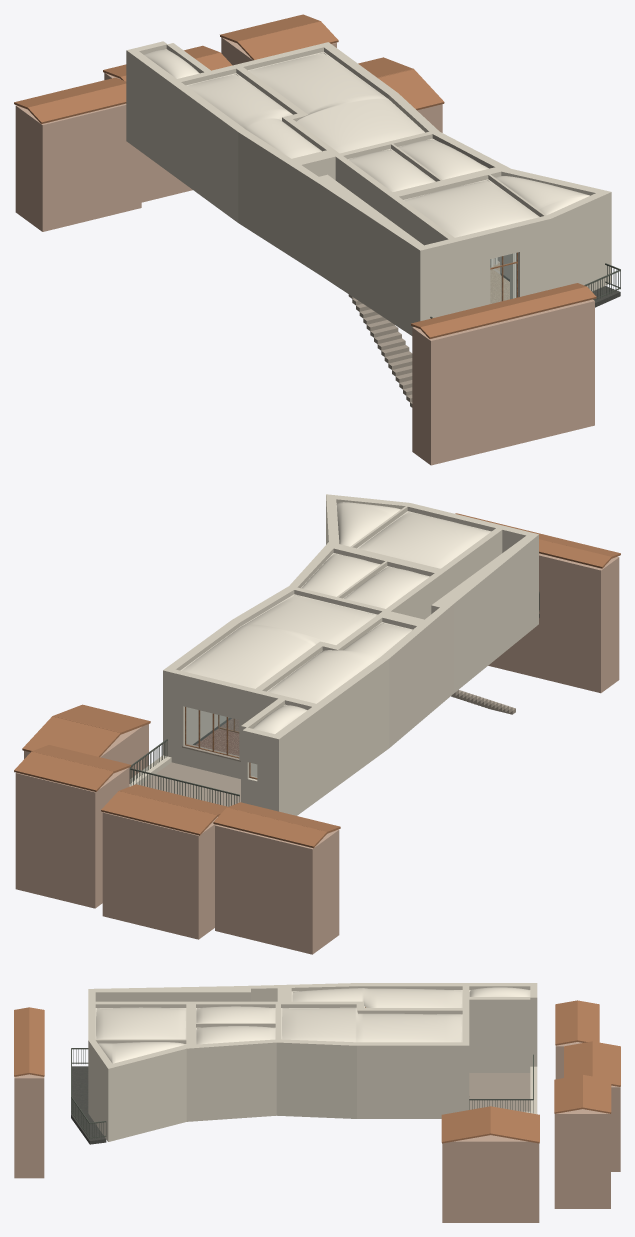
3 renders of one model, top to bottom at view 1: azimuth 30°, elevation 25°; view 2: azimuth 150°, elevation 25°; view 3: azimuth 270°, elevation 25°, orthographic. The views are drawn at different scales.
Visible parts, largest first — view 1: Murature DOCFA.007, Fabbricato vicino indicativo.004, Fabbricato vicino indicativo, Murature DOCFA.002, Volta ribassata indicativa.002, Murature DOCFA.003, Murature DOCFA.001, Volta ribassata indicativa.005, Volta ribassata indicativa.001, Murature DOCFA.006, Falda vicina.009, Falda vicina.005 (+13 smaller); view 2: Murature DOCFA.007, Fabbricato vicino indicativo, Fabbricato vicino indicativo.001, Fabbricato vicino indicativo.004, Fabbricato vicino indicativo.002, Murature DOCFA.002, Volta ribassata indicativa.002, Murature DOCFA.003, Murature DOCFA.001, Volta ribassata indicativa.001, Volta ribassata indicativa.005, Falda vicina.002 (+18 smaller); view 3: Murature DOCFA.007, Murature DOCFA.002, Fabbricato vicino indicativo.003, Murature DOCFA.003, Volta ribassata indicativa.002, Fabbricato vicino indicativo.002, Murature DOCFA.001, Fabbricato vicino indicativo.004, Volta ribassata indicativa.005, Volta ribassata indicativa.001, Murature DOCFA.006, Pavimento Terrazzo (+20 smaller).
Boxes of the visible parts, x1,y1,x2,y2 form: Murature DOCFA.007: (126,41,611,275); Fabbricato vicino indicativo.004: (412,299,594,465); Fabbricato vicino indicativo: (15,103,141,231); Murature DOCFA.002: (126,98,611,321); Volta ribassata indicativa.002: (249,53,423,153); Murature DOCFA.003: (126,82,611,298); Murature DOCFA.001: (126,123,611,330); Volta ribassata indicativa.005: (404,180,538,237); Volta ribassata indicativa.001: (187,74,321,158); Murature DOCFA.006: (126,76,611,281); Falda vicina.009: (420,286,596,338); Falda vicina.005: (237,21,338,60); Murature DOCFA.007: (163,494,538,764); Fabbricato vicino indicativo: (215,824,339,954); Fabbricato vicino indicativo.001: (102,812,217,939); Fabbricato vicino indicativo.004: (488,553,619,693); Fabbricato vicino indicativo.002: (15,767,129,908); Murature DOCFA.002: (163,543,538,810); Volta ribassata indicativa.002: (182,595,376,688); Murature DOCFA.003: (163,527,538,786); Murature DOCFA.001: (163,606,538,814); Volta ribassata indicativa.001: (268,623,411,703); Volta ribassata indicativa.005: (358,512,490,568); Falda vicina.002: (101,791,216,835); Murature DOCFA.007: (88,983,537,1089); Murature DOCFA.002: (88,1036,537,1127); Fabbricato vicino indicativo.003: (442,1135,539,1222); Murature DOCFA.003: (88,1023,537,1107); Volta ribassata indicativa.002: (282,1007,461,1042); Fabbricato vicino indicativo.002: (554,1109,610,1208); Murature DOCFA.001: (88,1056,537,1137); Fabbricato vicino indicativo.004: (14,1074,44,1178); Volta ribassata indicativa.005: (96,1007,185,1039); Volta ribassata indicativa.001: (292,988,461,1007); Murature DOCFA.006: (88,1018,537,1093); Pavimento Terrazzo: (469,1073,530,1111).
Bounding box in the file's own units: 16.21 × 8.19 × 31.84.
17 materials, 4 textured.
